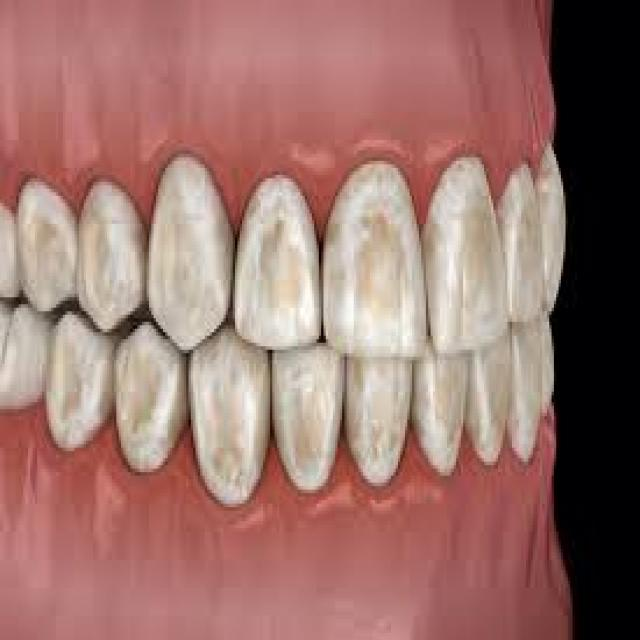tooth: (324, 154, 428, 360), (421, 150, 512, 350), (144, 150, 230, 347), (226, 185, 323, 350), (191, 336, 270, 507), (270, 349, 344, 496), (342, 342, 412, 490), (77, 172, 142, 326), (119, 329, 186, 472), (498, 147, 547, 318), (52, 311, 110, 444), (16, 172, 74, 304), (421, 342, 470, 482), (535, 158, 577, 318), (468, 346, 514, 462), (519, 318, 559, 444), (2, 304, 46, 409), (2, 206, 19, 298)
